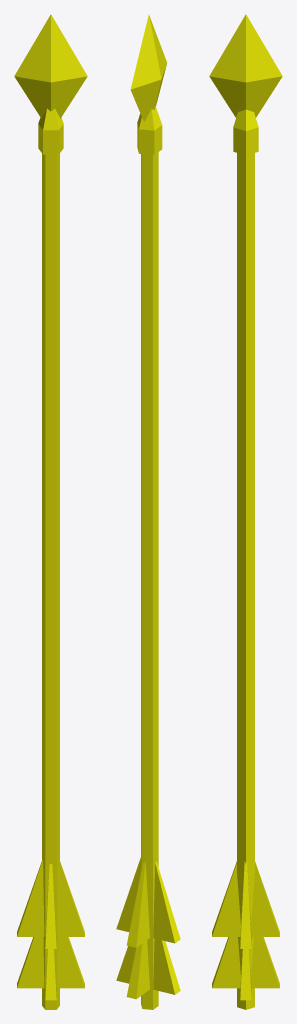
The model's file is _arrow_c_6.glb.
3 views of the same model, side by side, from view 1: azimuth 90°, elevation 25°; view 2: azimuth 150°, elevation 25°; view 3: azimuth 270°, elevation 25° (orthographic).
Parts seen in each view (by area): view 1: arrow_c_6; view 2: arrow_c_6; view 3: arrow_c_6.
Part boxes in pixels (box(x1,y1,x2,y2)): arrow_c_6: box(14, 14, 87, 1009); arrow_c_6: box(116, 14, 180, 1009); arrow_c_6: box(209, 14, 282, 1009).
Bounding box in the file's own units: 1243 × 20001 × 1343.
